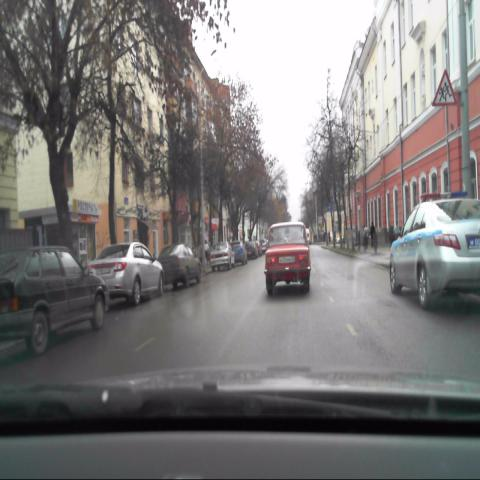1_23: (431, 64, 457, 109)
